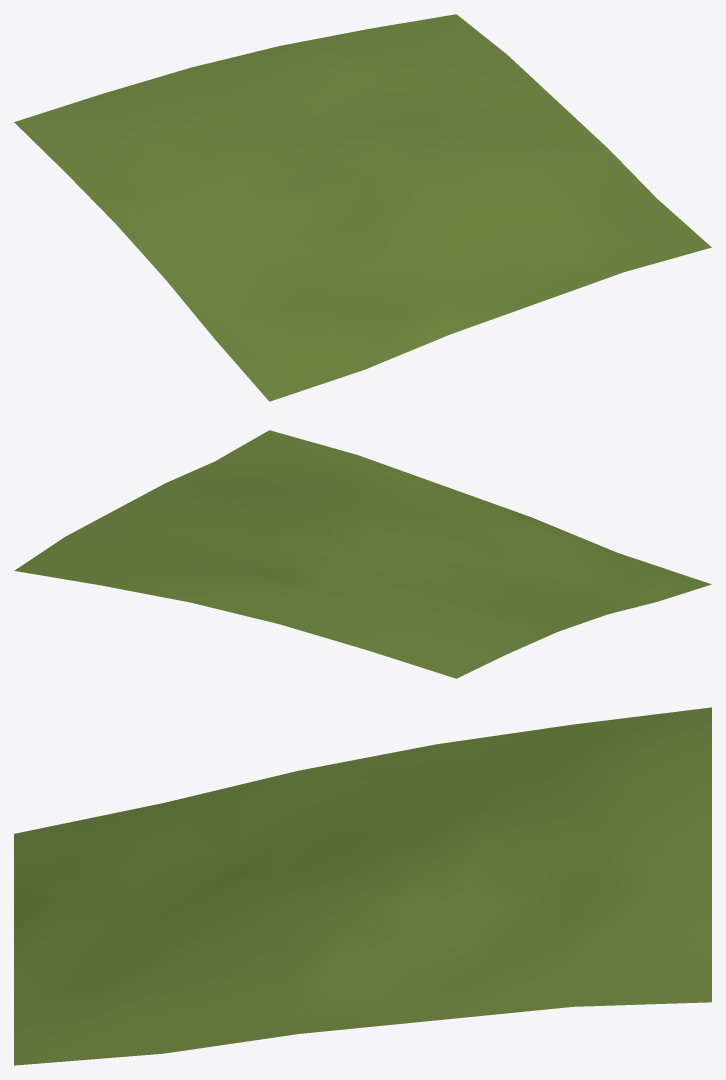
Rendered from rpgpp_ag_terrain_hill_01e_10x10m_0-1-1-2m.fbx.
The picture shows the model from 3 angles, top to bottom: view 1: azimuth 30°, elevation 25°; view 2: azimuth 150°, elevation 25°; view 3: azimuth 270°, elevation 25°; orthographic projection. The views are drawn at different scales.
Visible parts, largest first — view 1: rpgpp_ag_terrain_hill_01e_10x10m_0-1-1-2m; view 2: rpgpp_ag_terrain_hill_01e_10x10m_0-1-1-2m; view 3: rpgpp_ag_terrain_hill_01e_10x10m_0-1-1-2m.
Boxes of the visible parts, x1,y1,x2,y2 form: rpgpp_ag_terrain_hill_01e_10x10m_0-1-1-2m: (14, 14, 711, 401); rpgpp_ag_terrain_hill_01e_10x10m_0-1-1-2m: (14, 430, 711, 678); rpgpp_ag_terrain_hill_01e_10x10m_0-1-1-2m: (14, 707, 711, 1065).
Size of the model in its own units: 10 by 2.29 by 10.
